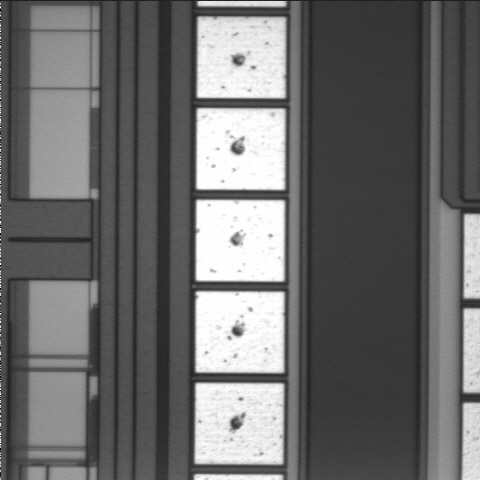pad: (196, 108, 285, 190), (196, 200, 285, 282), (196, 291, 284, 373), (197, 17, 286, 98), (195, 383, 284, 464)
